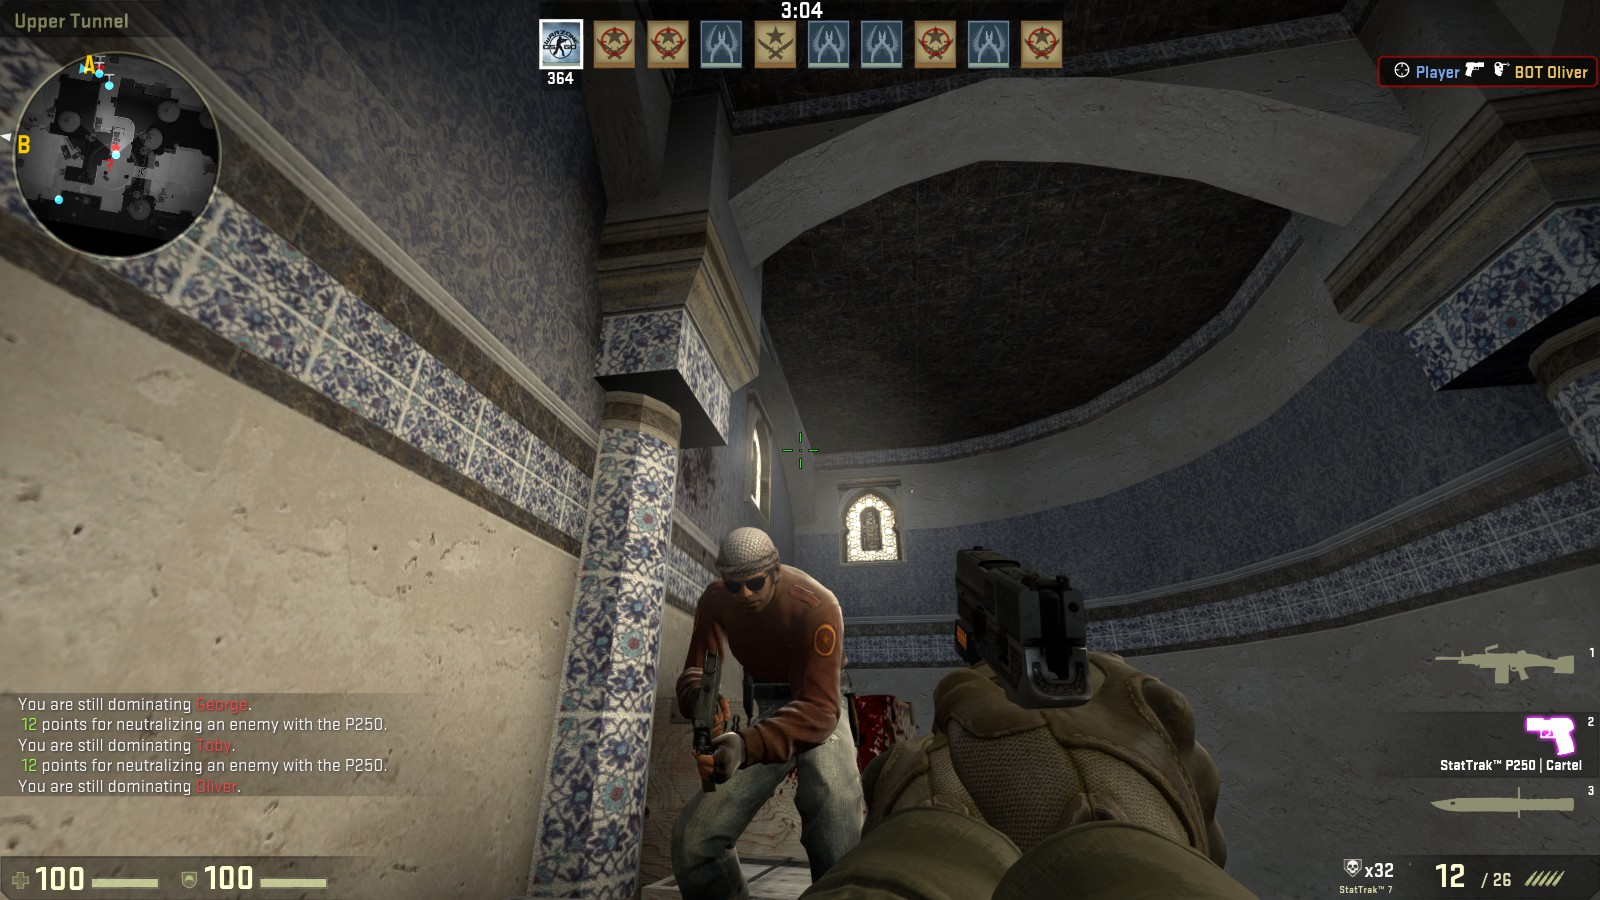t: (682, 519, 874, 897)
th: (719, 524, 777, 609)
